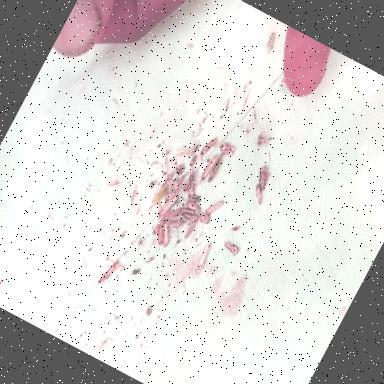pbw: (154, 188, 178, 222), (193, 241, 214, 272), (204, 154, 224, 184), (198, 152, 218, 182), (154, 222, 176, 248), (202, 195, 224, 220), (149, 219, 170, 245), (248, 182, 269, 206), (198, 134, 216, 159), (163, 204, 181, 224), (216, 140, 236, 158), (164, 182, 180, 204), (166, 214, 184, 232), (220, 240, 240, 256), (178, 209, 196, 224), (183, 198, 200, 213), (194, 210, 211, 225), (150, 218, 163, 237), (164, 175, 178, 189)
